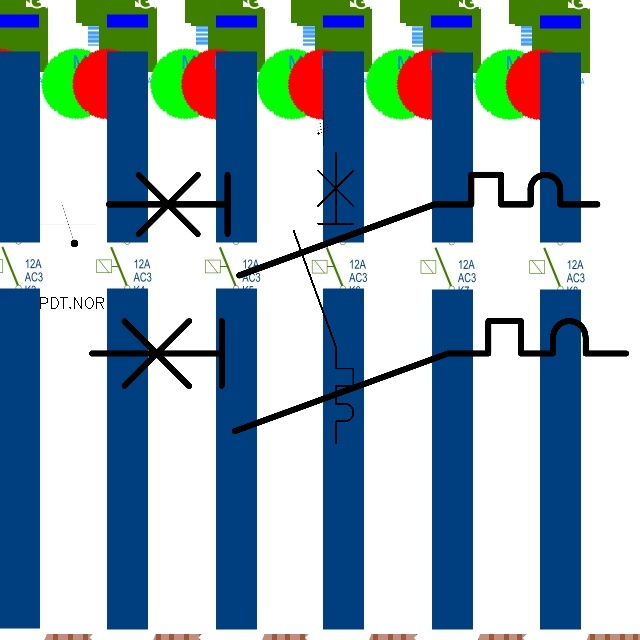interruptor_termomagnetico: (78, 307, 640, 444), (96, 162, 610, 288), (286, 145, 361, 450)
